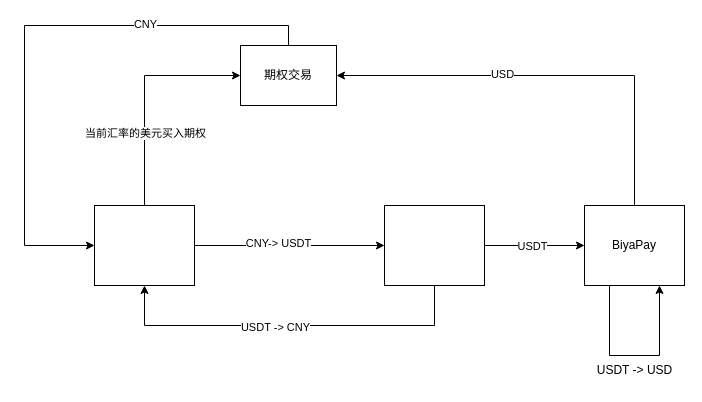
Some shapes in this 702 by 402 pixel diagram are drawn without their labels. Each missing label, with the centre of its shape:
币安: point (434, 245)
银行: point (144, 245)
